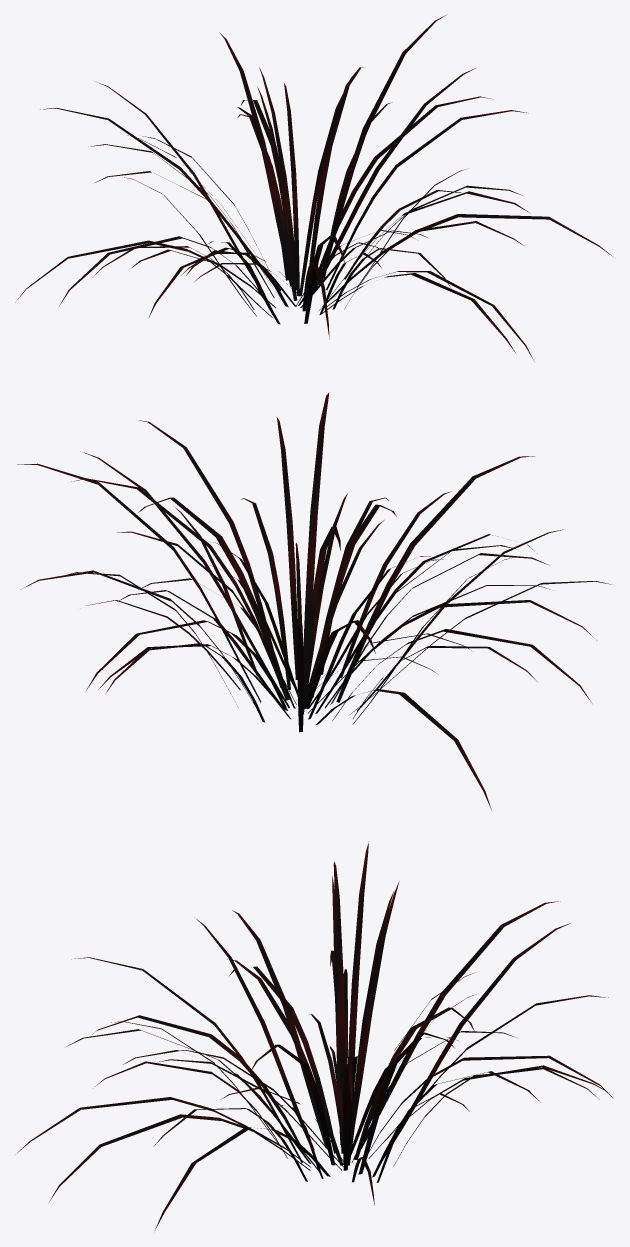
File: Grass02A.fbx
The picture shows the model from 3 angles, top to bottom: view 1: azimuth 30°, elevation 25°; view 2: azimuth 150°, elevation 25°; view 3: azimuth 270°, elevation 25°; orthographic projection. The views are drawn at different scales.
Parts seen in each view (by area): view 1: Grass02A; view 2: Grass02A; view 3: Grass02A.
Boxes of the visible parts, left/top/right/bottom form: Grass02A: left=15, top=15, right=613, bottom=361; Grass02A: left=17, top=392, right=611, bottom=810; Grass02A: left=15, top=841, right=613, bottom=1230.
Bounding box in the file's own units: 2.4 × 0.9988 × 2.39.
